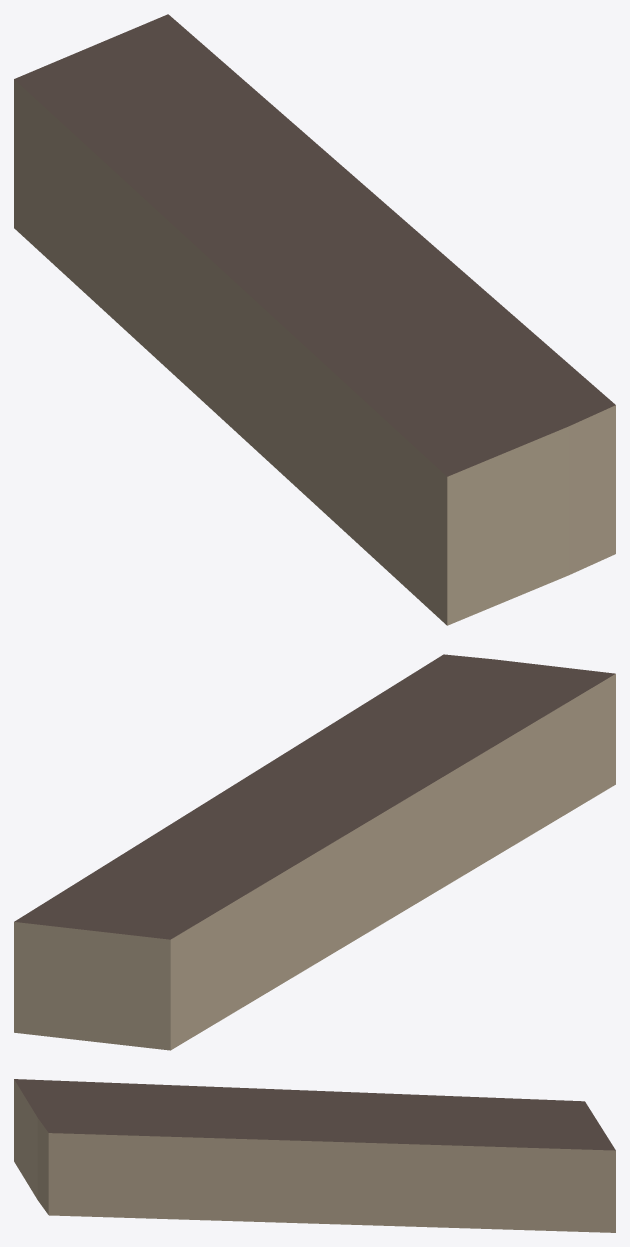
3 views of the same model, one above another, from view 1: azimuth 30°, elevation 25°; view 2: azimuth 150°, elevation 25°; view 3: azimuth 270°, elevation 25° (orthographic). The views are drawn at different scales.
Parts seen in each view (by area): view 1: HP-w1200779097; view 2: HP-w1200779097; view 3: HP-w1200779097.
Boxes of the visible parts, box(x1,y1,x2,y2) form: HP-w1200779097: box(14, 14, 615, 625); HP-w1200779097: box(14, 654, 615, 1050); HP-w1200779097: box(14, 1079, 615, 1232).
Bounding box in the file's own units: 16.75 × 9 × 59.56.
